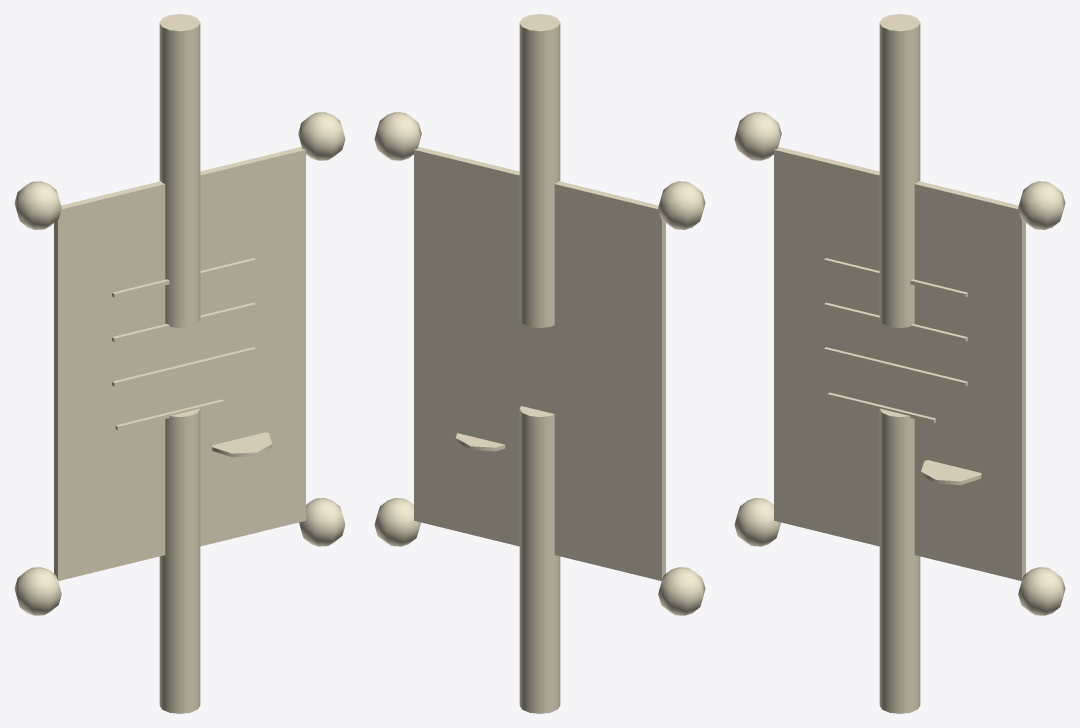
The model's file is 08_hich_tuong_si.glb.
3 renders of one model, left to right at view 1: azimuth 30°, elevation 25°; view 2: azimuth 150°, elevation 25°; view 3: azimuth 330°, elevation 25°, orthographic.
Visible parts, largest first — view 1: HichTuongSi; view 2: HichTuongSi; view 3: HichTuongSi.
Boxes of the visible parts, x1,y1,x2,y2 form: HichTuongSi: (14,14,345,713); HichTuongSi: (374,14,705,713); HichTuongSi: (734,14,1065,713).
Size of the model in its own units: 0.46 by 0.92 by 0.08.
